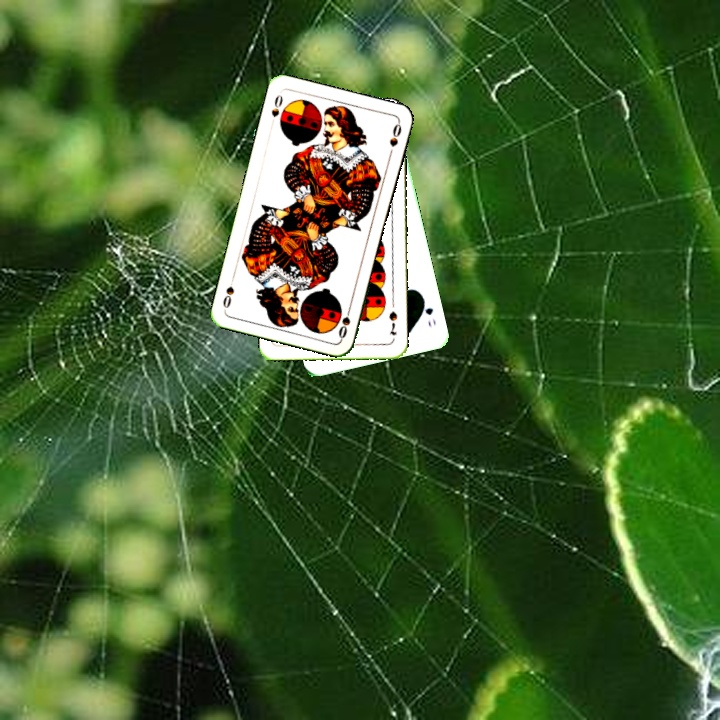GO: (418, 294, 438, 330)
S7: (385, 307, 400, 337)
SO: (334, 301, 354, 341), (267, 91, 285, 129)
